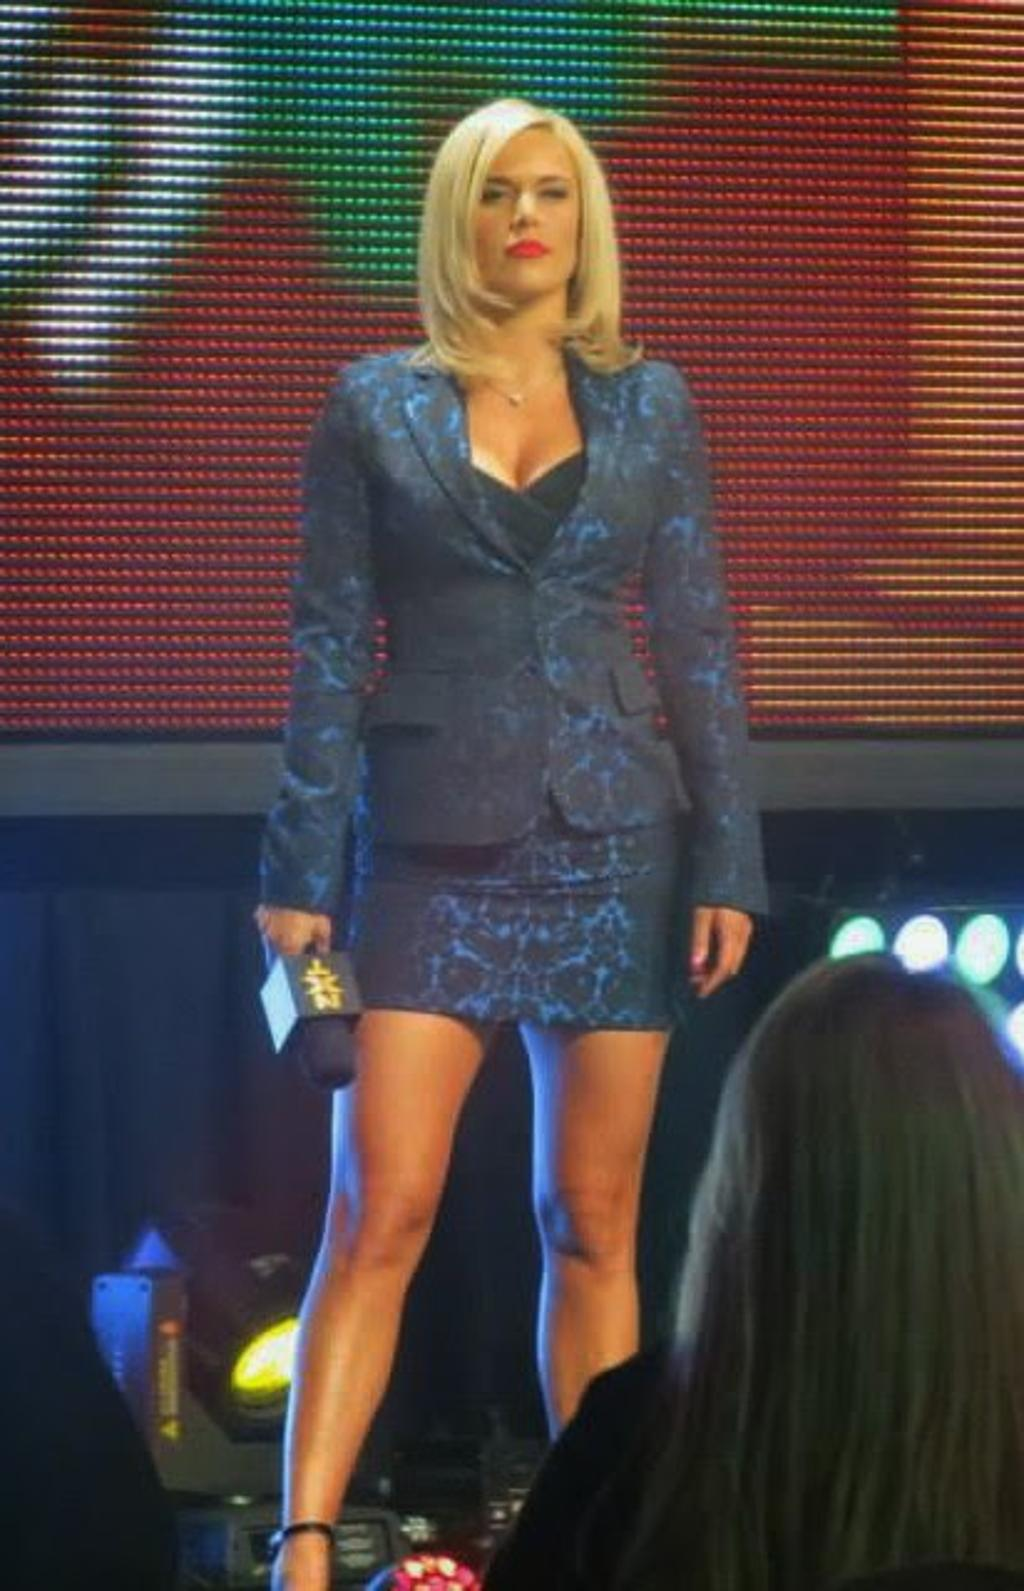face: (469, 127, 590, 288)
